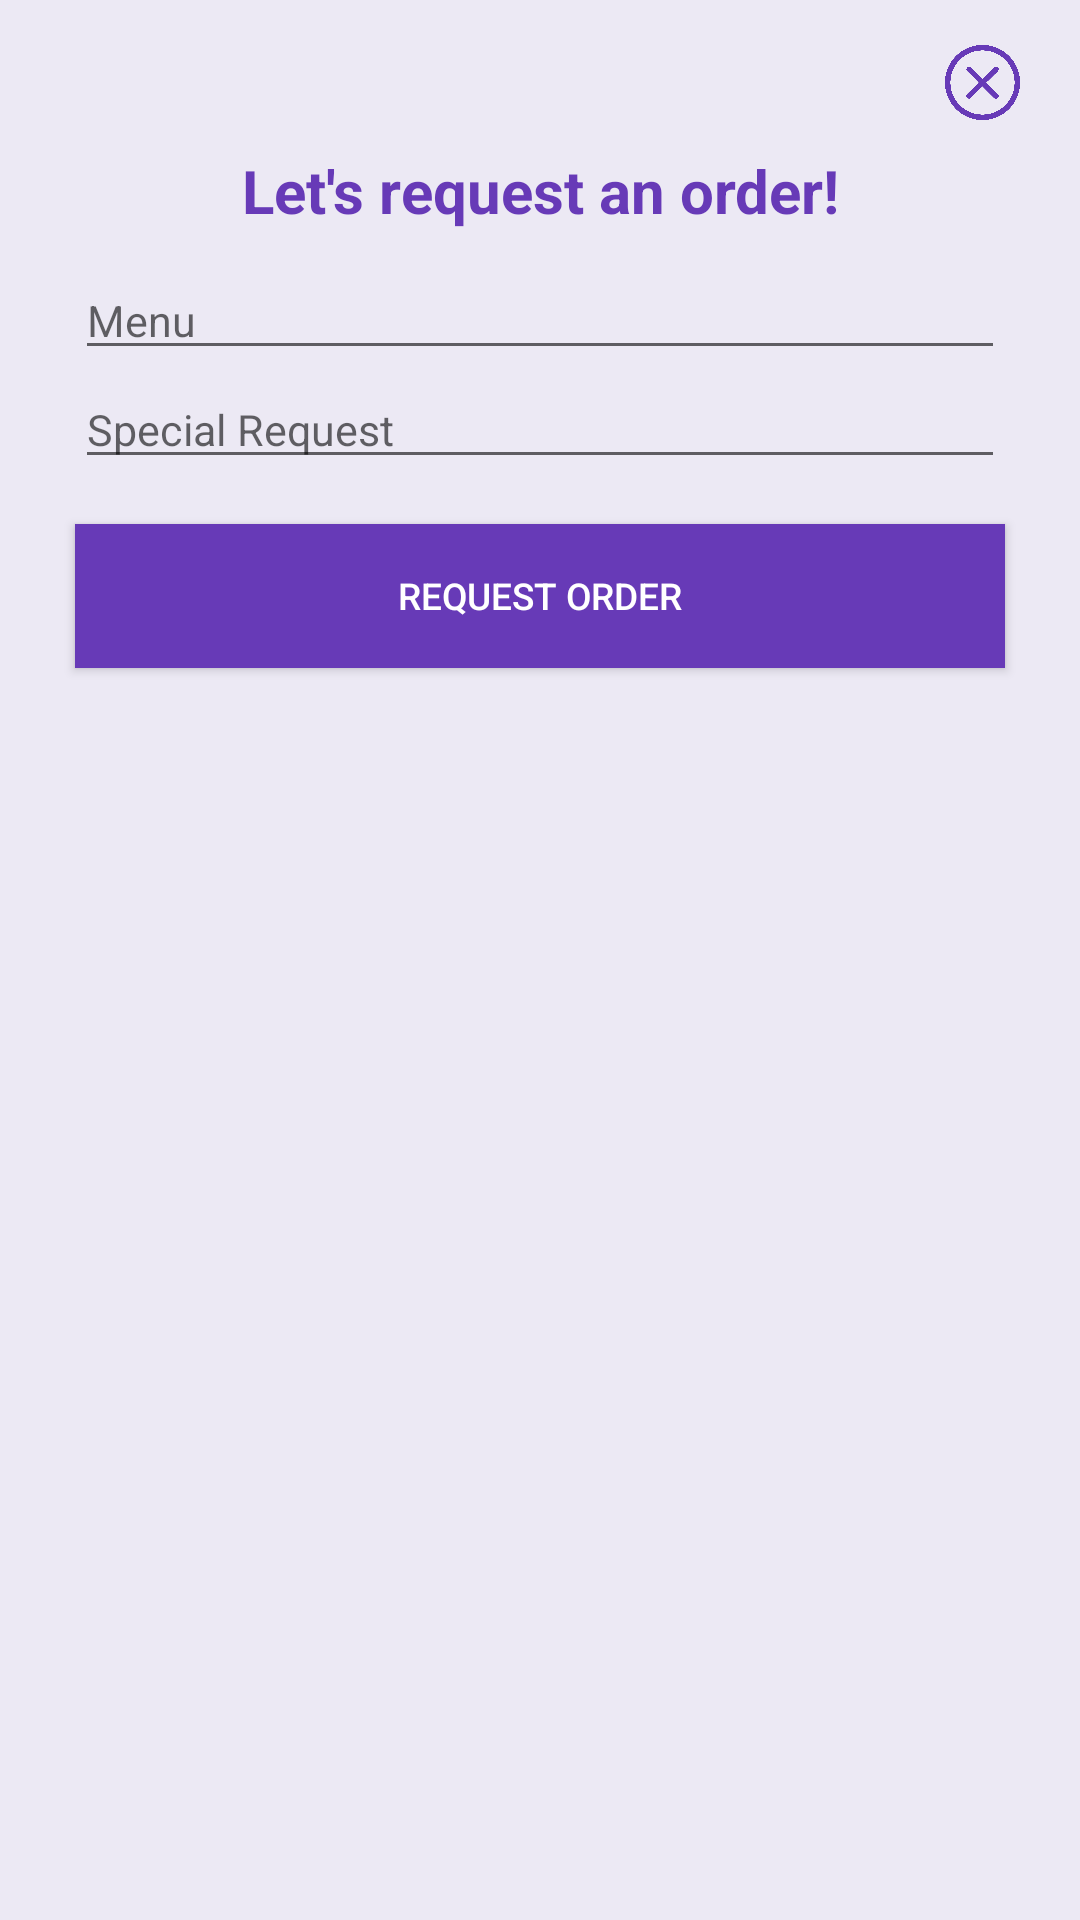

Icons on this 1080x1920 Android screen, each with the point to tap as point (x, y):
close: point (982, 82)
